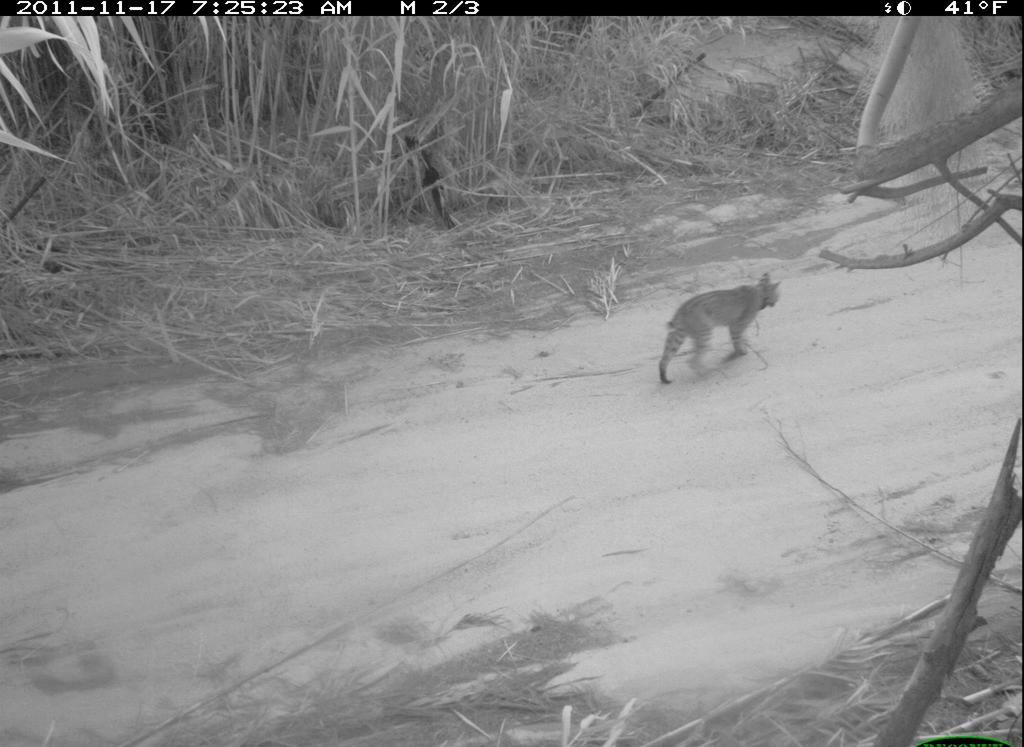bobcat: (647, 271, 794, 388)
